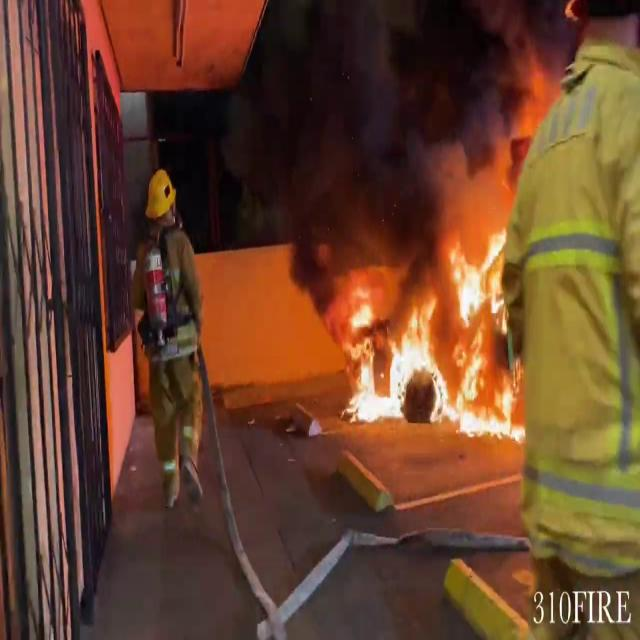Fire: (338, 226, 537, 450)
Smoke: (359, 0, 571, 254)
